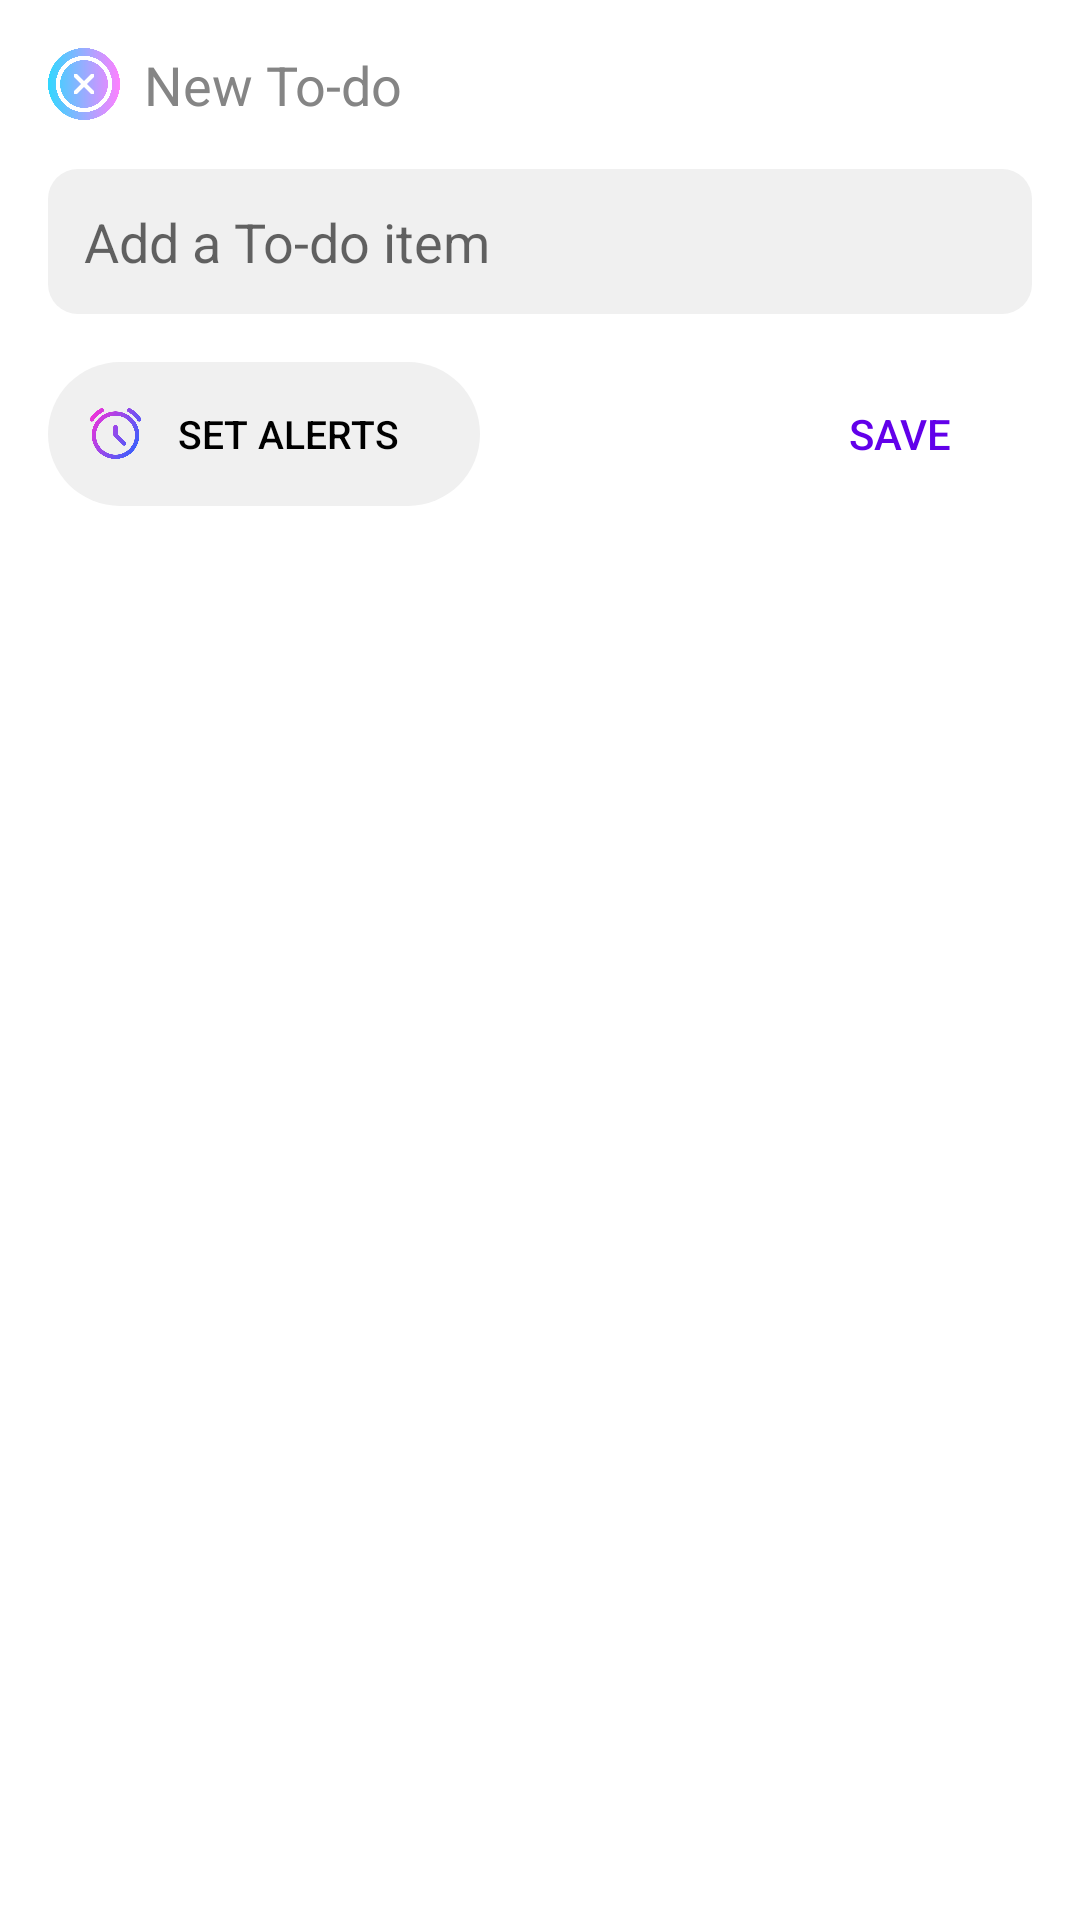

Where to tap for icons on this 1080×1920 app screen, as (x=x, y=y):
alarm: (x=115, y=433)
cancel: (x=84, y=84)
